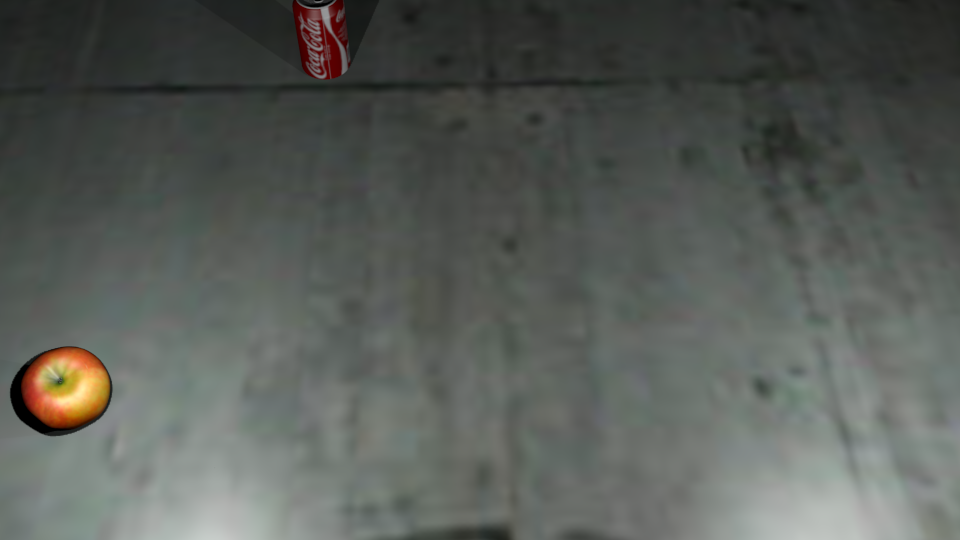apple: (23, 348, 110, 428), (647, 403, 743, 475), (529, 171, 611, 245), (187, 1, 241, 48)
banana: (340, 127, 549, 288), (815, 33, 932, 80)
cola_can: (141, 178, 213, 286), (294, 1, 350, 80), (912, 1, 957, 12)
orange: (129, 203, 203, 265), (898, 375, 960, 430), (224, 229, 280, 280), (567, 284, 619, 329), (258, 45, 303, 89)
